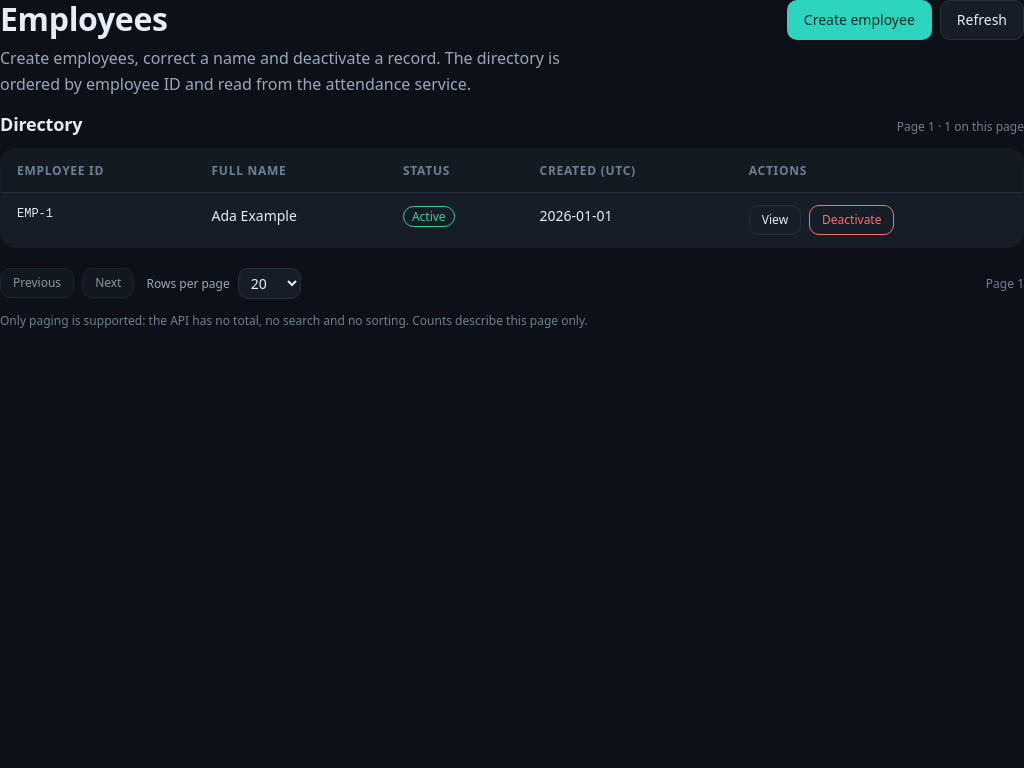
Test: employee deactivation › keeps the dialog open and reports a failure
Expected: the text "EMP-1" is shown, [17, 207, 53, 221]
Click the button "Deactivate": (852, 220) [809, 205, 894, 235]
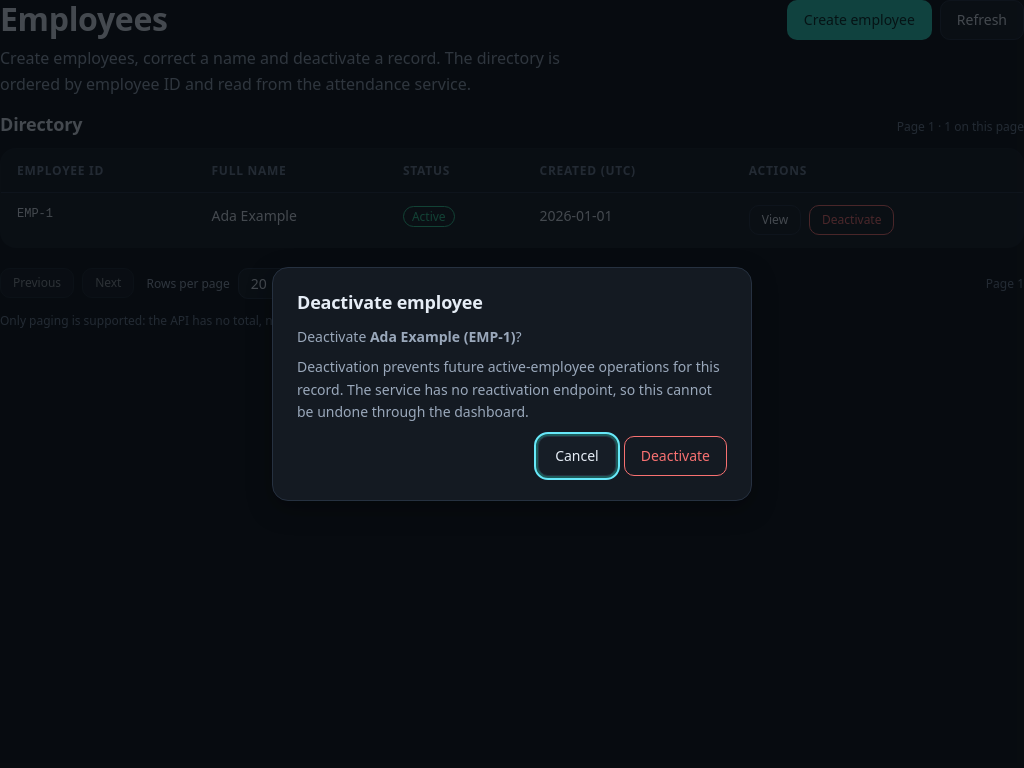
Click the button "Deactivate": (675, 456) [624, 436, 727, 476]
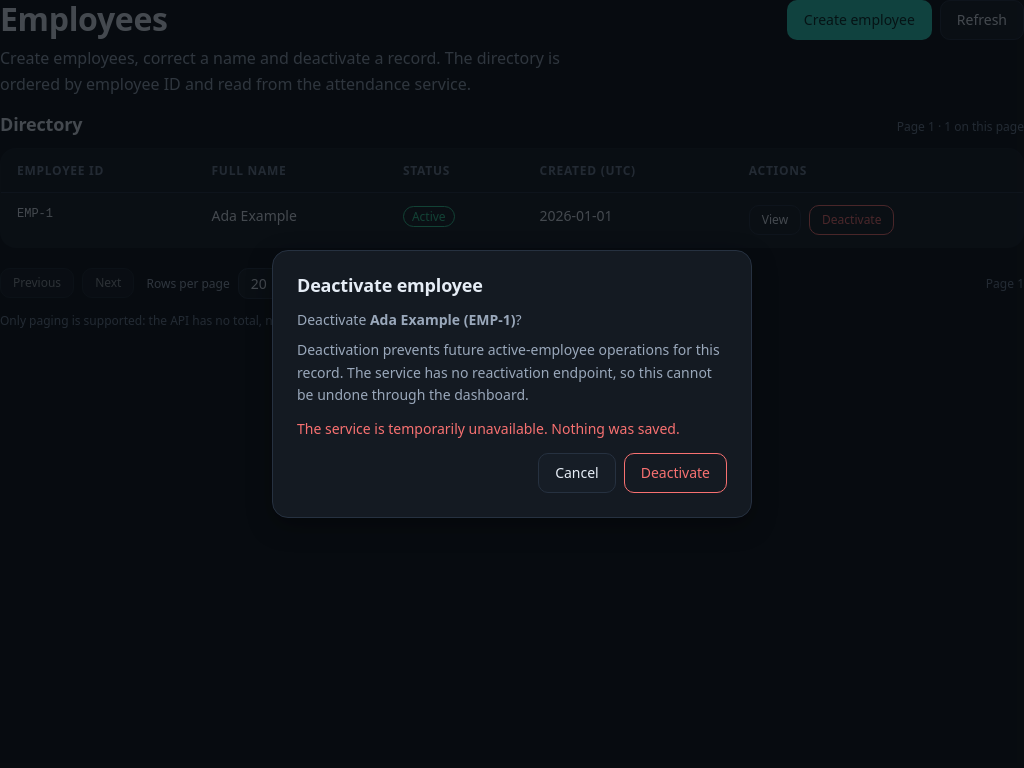
Expected: the text "Active" is shown, [403, 206, 455, 227]
Expected: the text "The service is temporarily unavailable. Nothing was saved." is shown, [297, 418, 727, 441]
